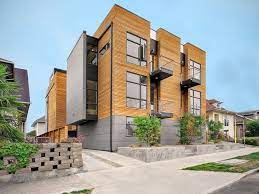Building House: (45, 7, 208, 138), (208, 97, 239, 140)
